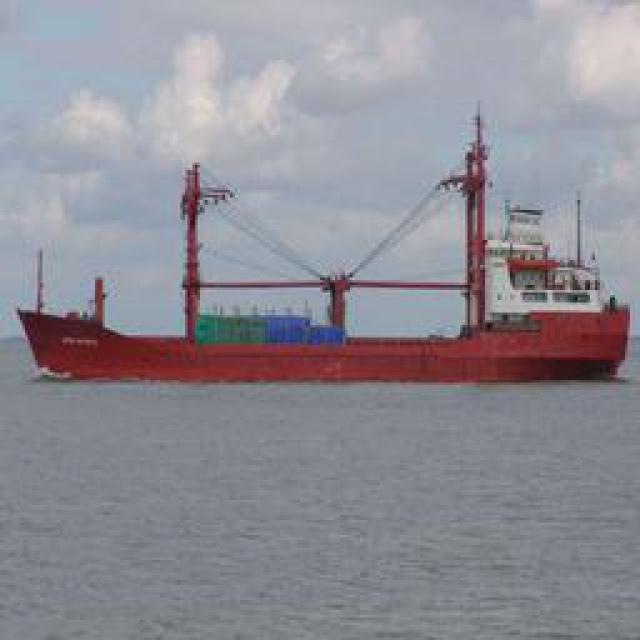Ship: (30, 116, 633, 389)
